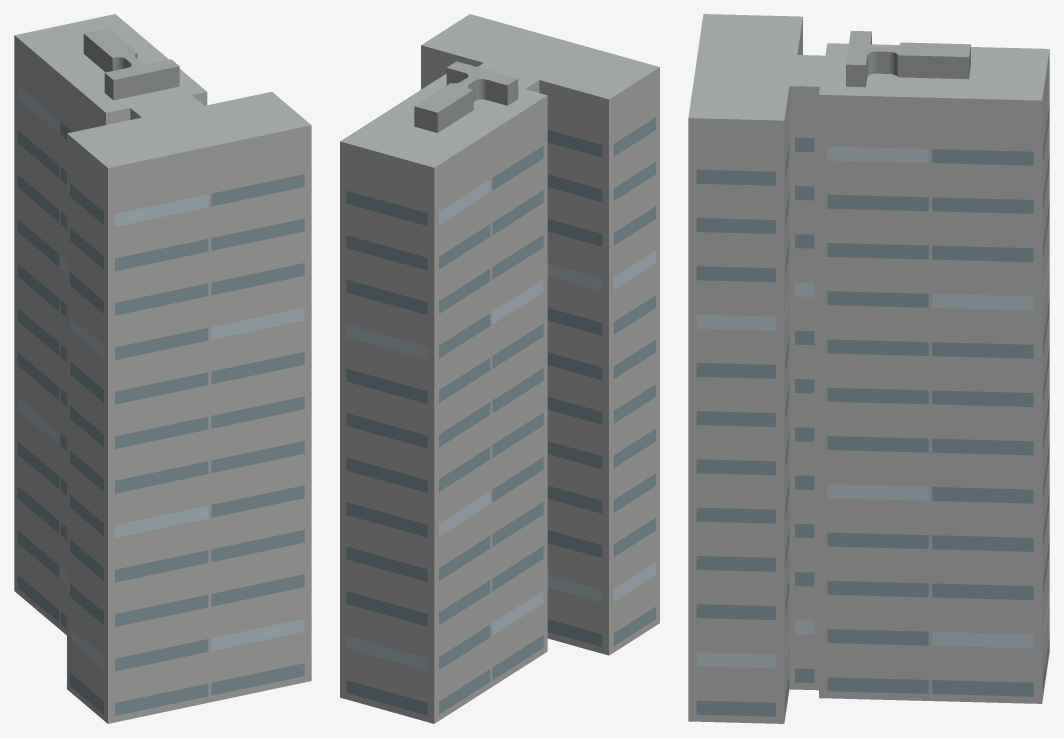
File: fallback-sk-bukhansan-city-116.glb
3 views of the same model, side by side, from view 1: azimuth 30°, elevation 25°; view 2: azimuth 150°, elevation 25°; view 3: azimuth 270°, elevation 25° (orthographic). The views are drawn at different scales.
Parts seen in each view (by area): view 1: fallback-sk-bukhansan-city-116; view 2: fallback-sk-bukhansan-city-116; view 3: fallback-sk-bukhansan-city-116.
Part boxes in pixels (<box>): fallback-sk-bukhansan-city-116: <box>14,14,311,723</box>; fallback-sk-bukhansan-city-116: <box>340,14,659,723</box>; fallback-sk-bukhansan-city-116: <box>688,14,1049,723</box>.
Bounding box in the file's own units: 24.87 × 68 × 35.6.
